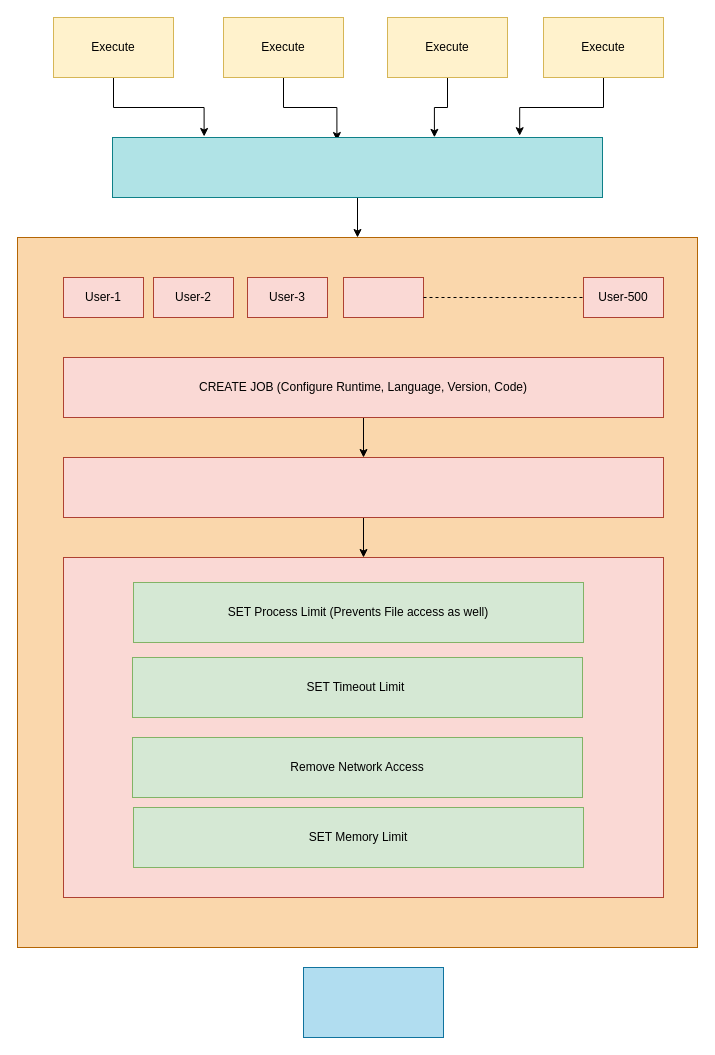
The diagram is 715 pixels wide and 1055 high, and some of its shapes have lost their labels. The shapes that lost their labels are listed below. From the top down, each one's centre as x and y in pixels, then its label:
At point 357,167: "PORT 5000".
At point 383,297: "User-4".
At point 363,487: "CREATE NECESSARY DIRECTORY & GRANT PERMISSION WITH SANITIZED FILENAME".
At point 373,1002: "DOCKER CONTAINER".
